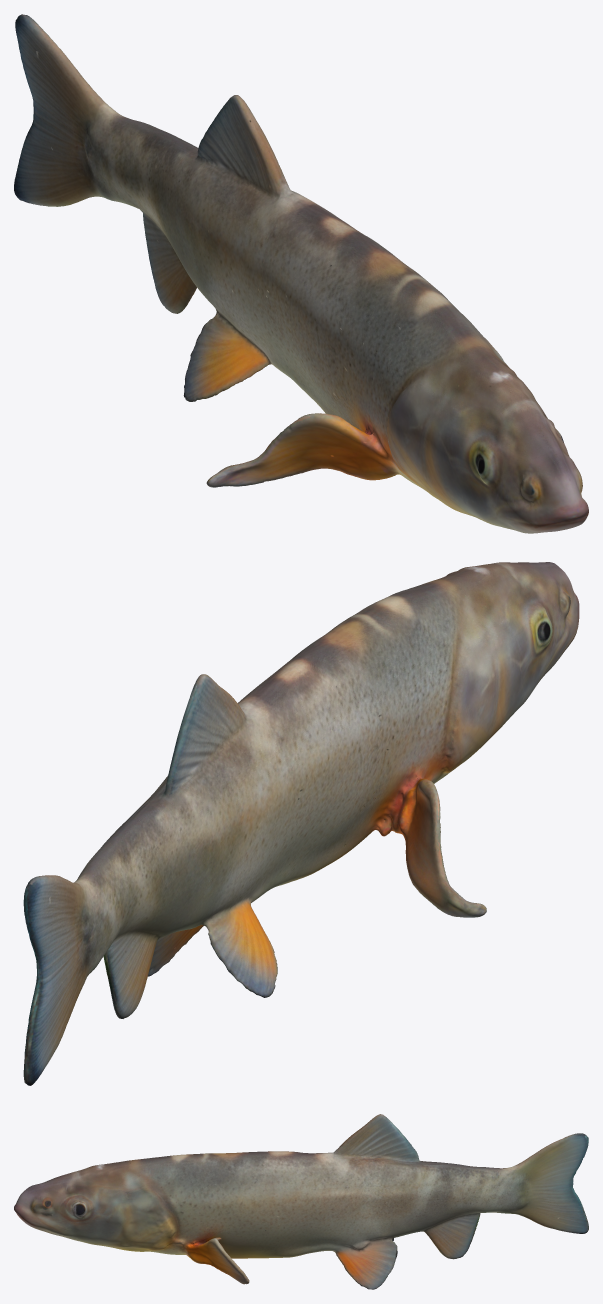
Rendered from 4рыбаtled.glb.
3 views of the same model, one above another, from view 1: azimuth 30°, elevation 25°; view 2: azimuth 150°, elevation 25°; view 3: azimuth 270°, elevation 25° (orthographic). The views are drawn at different scales.
Size of the model in its own units: 0.5362 by 0.6177 by 2.
1 material, 1 textured.
